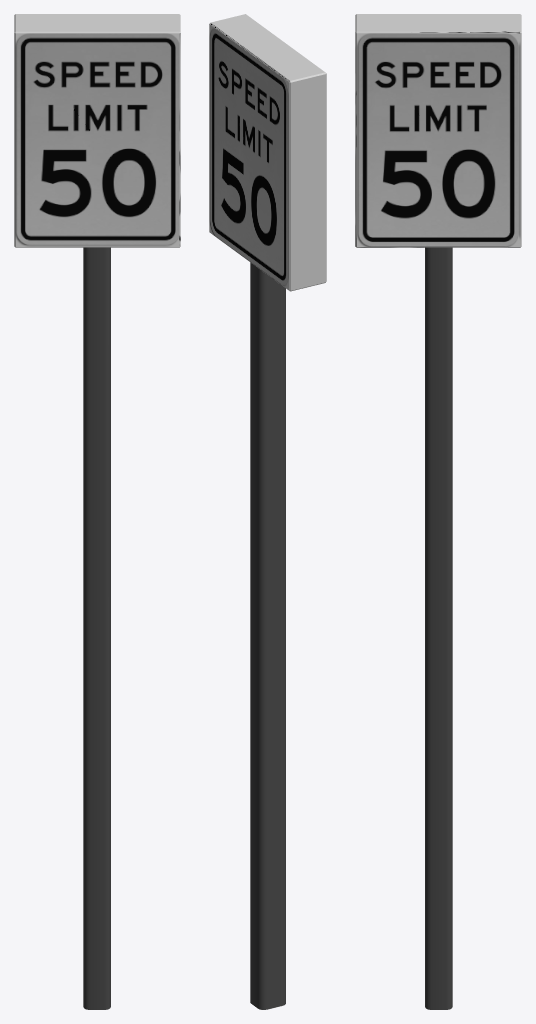
File: speed-sign.fbx
The picture shows the model from 3 angles, left to right: view 1: azimuth 90°, elevation 25°; view 2: azimuth 210°, elevation 25°; view 3: azimuth 270°, elevation 25°; orthographic projection. The views are drawn at different scales.
Parts seen in each view (by area): view 1: Cube.003, Cube.001; view 2: Cube.003, Cube.001; view 3: Cube.003, Cube.001.
Boxes of the visible parts, x1,y1,x2,y2 form: Cube.003: (14, 14, 180, 247); Cube.001: (83, 247, 110, 1009); Cube.003: (209, 14, 326, 291); Cube.001: (250, 262, 285, 1009); Cube.003: (355, 14, 521, 247); Cube.001: (425, 247, 452, 1009).
Size of the model in its own units: 32 by 779 by 120.
Materials: 2 (1 with a texture image).
